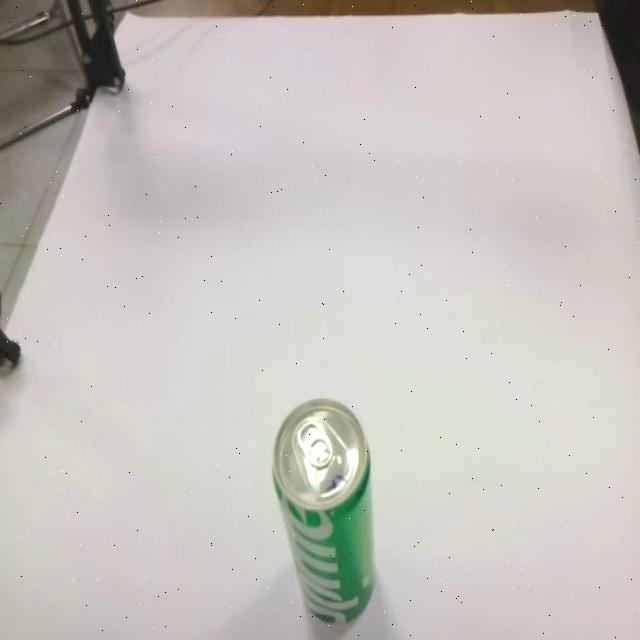debris: (272, 396, 376, 626)
